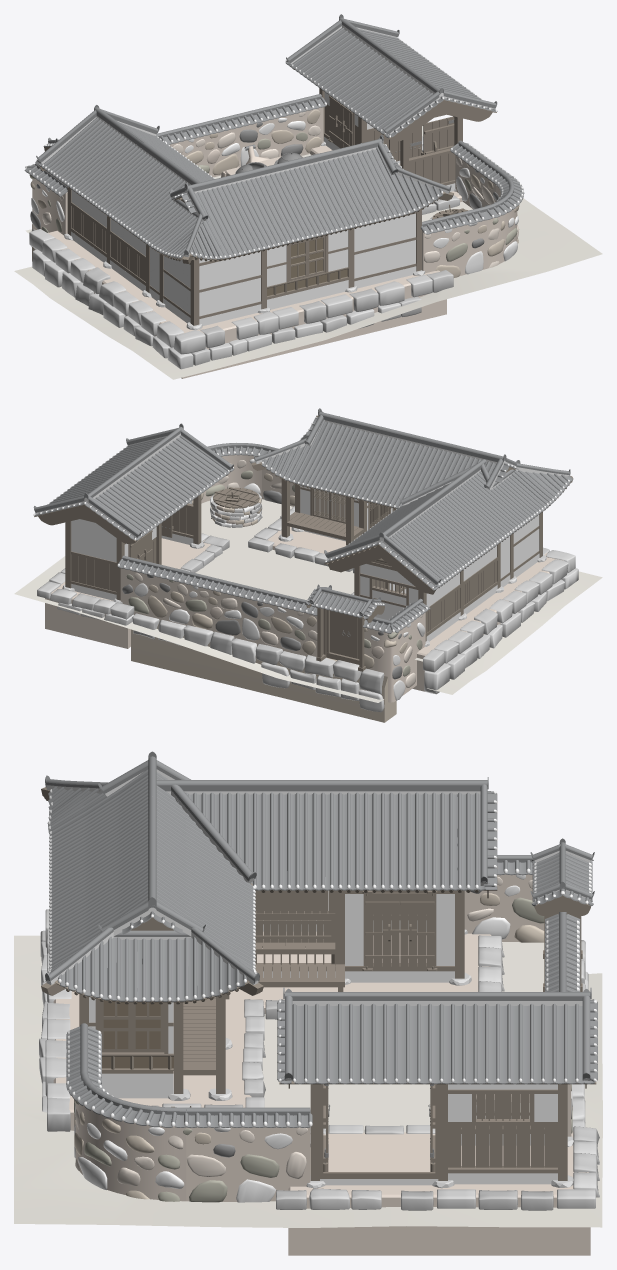
The model's file is jumak.glb.
3 views of the same model, one above another, from view 1: azimuth 30°, elevation 25°; view 2: azimuth 150°, elevation 25°; view 3: azimuth 270°, elevation 25° (orthographic). The views are drawn at different scales.
Visible parts, largest first — view 1: skfb_offset; view 2: skfb_offset; view 3: skfb_offset.
Boxes of the visible parts, box(x1,y1,x2,y2) form: skfb_offset: box(14, 14, 602, 379); skfb_offset: box(14, 408, 602, 722); skfb_offset: box(14, 751, 602, 1255).
Size of the model in its own units: 16.75 by 6.61 by 13.02.
